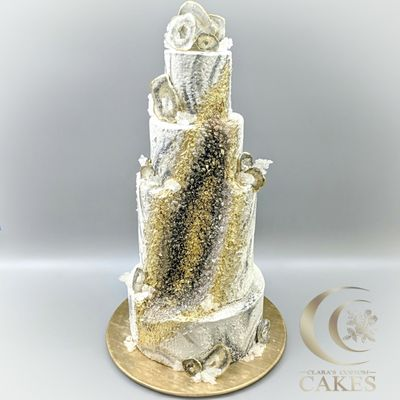sushi: (124, 111, 270, 381)
